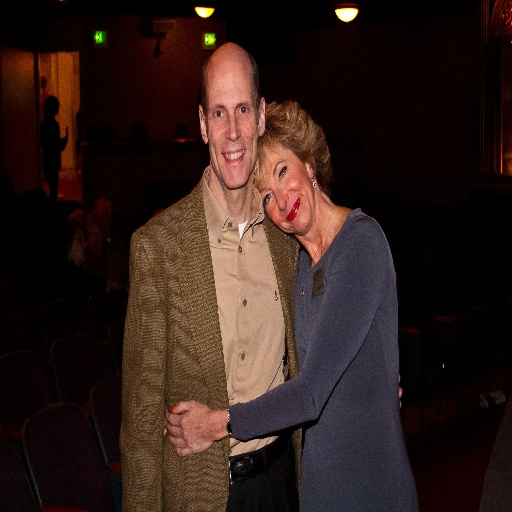hand: (165, 403, 226, 456), (398, 372, 403, 410)
